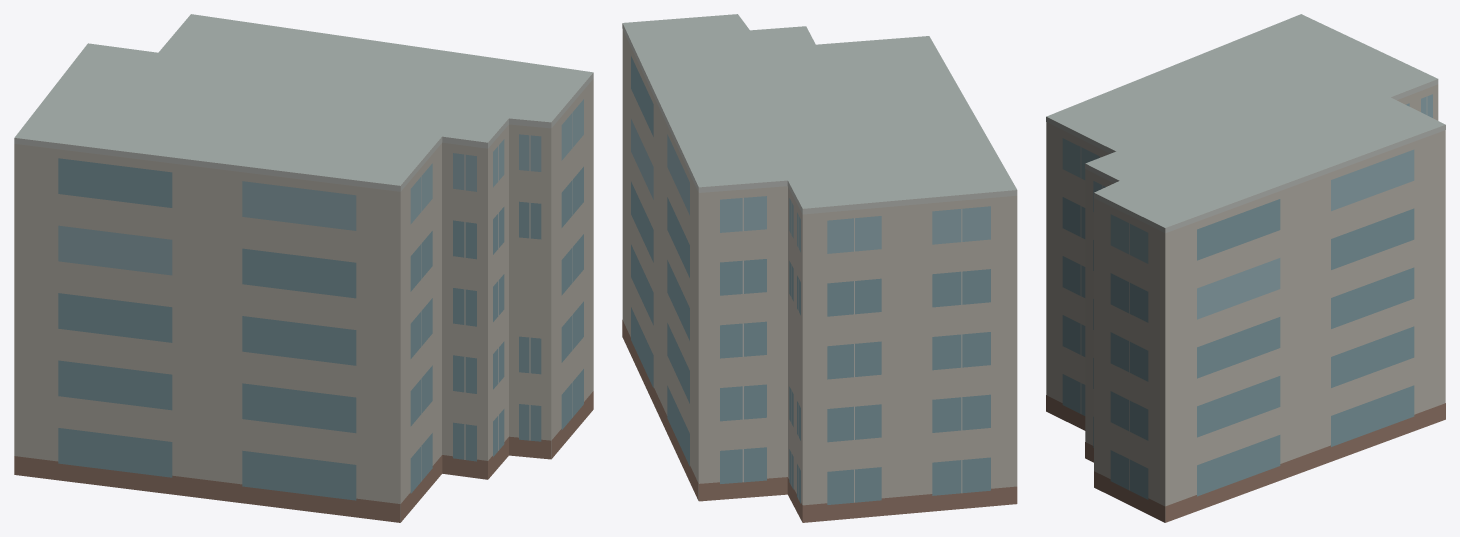
The model's file is survey-upis-32779157.glb.
3 views of the same model, side by side, from view 1: azimuth 30°, elevation 25°; view 2: azimuth 150°, elevation 25°; view 3: azimuth 270°, elevation 25° (orthographic). The views are drawn at different scales.
Parts seen in each view (by area): view 1: survey-upis-32779157.tmp; view 2: survey-upis-32779157.tmp; view 3: survey-upis-32779157.tmp.
Boxes of the visible parts, <box> form: survey-upis-32779157.tmp: <box>14,14,593,522</box>; survey-upis-32779157.tmp: <box>622,14,1017,522</box>; survey-upis-32779157.tmp: <box>1046,14,1445,522</box>.
Bounding box in the file's own units: 21.19 × 13.6 × 16.72.
